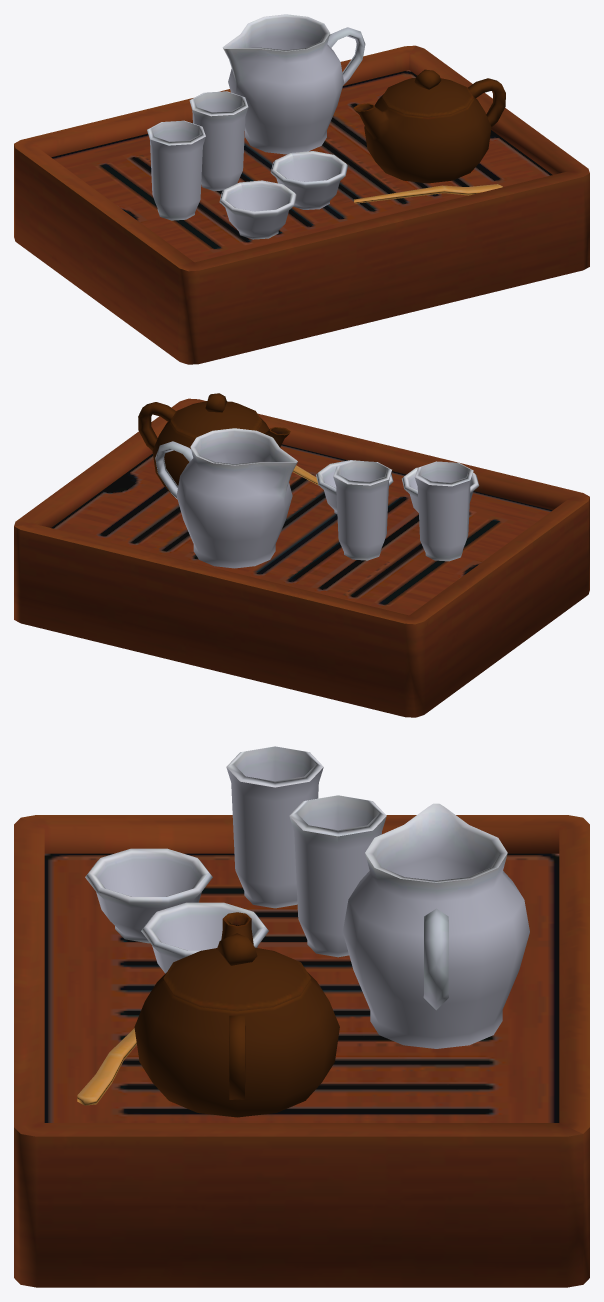
Rendered from teasechina.glb.
3 renders of one model, top to bottom at view 1: azimuth 30°, elevation 25°; view 2: azimuth 150°, elevation 25°; view 3: azimuth 270°, elevation 25°, orthographic. The views are drawn at different scales.
Parts seen in each view (by area): view 1: bunkouhai1_low__mReBody; view 2: bunkouhai1_low__mReBody; view 3: bunkouhai1_low__mReBody.
Boxes of the visible parts, left/top/right/bottom form: bunkouhai1_low__mReBody: left=14, top=14, right=589, bottom=364; bunkouhai1_low__mReBody: left=14, top=393, right=589, bottom=717; bunkouhai1_low__mReBody: left=14, top=746, right=589, bottom=1287.
Size of the model in its own units: 8.2 by 3.49 by 6.2.
Materials: 1 (1 with a texture image).
